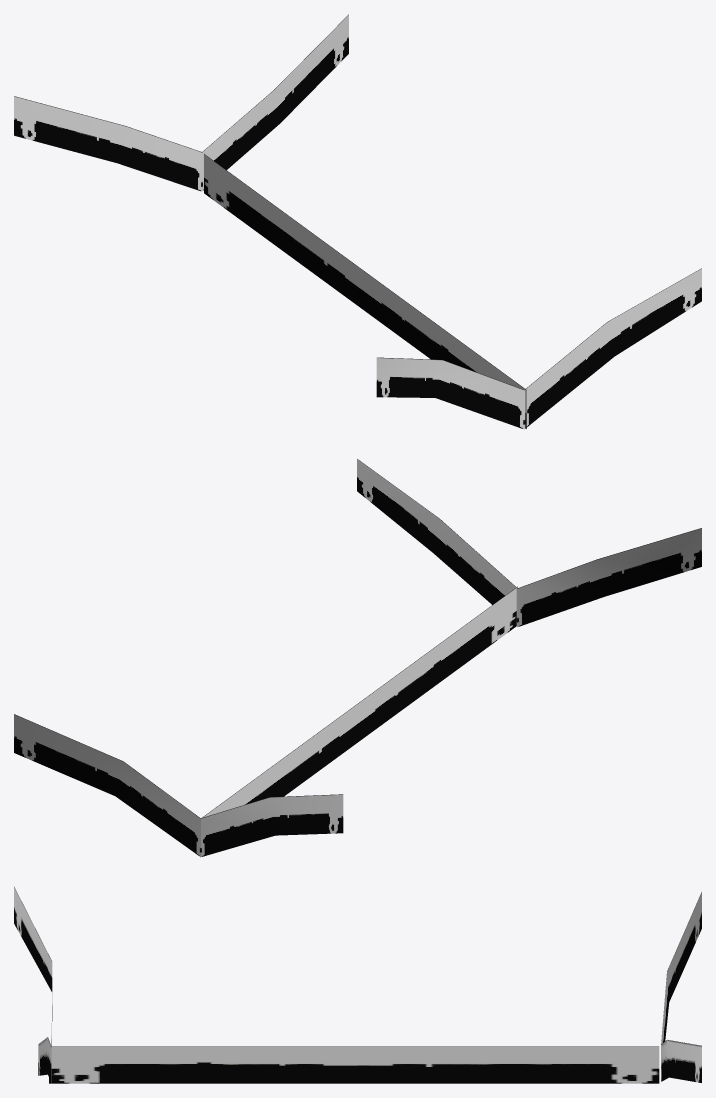
3 views of the same model, one above another, from view 1: azimuth 30°, elevation 25°; view 2: azimuth 150°, elevation 25°; view 3: azimuth 270°, elevation 25° (orthographic). The views are drawn at different scales.
Parts seen in each view (by area): view 1: wy05; view 2: wy05; view 3: wy05.
Boxes of the visible parts, x1,y1,x2,y2 form: wy05: [14, 14, 701, 429]; wy05: [14, 459, 701, 857]; wy05: [14, 886, 701, 1083].
Bounding box in the file's own units: 292 × 105 × 544.
